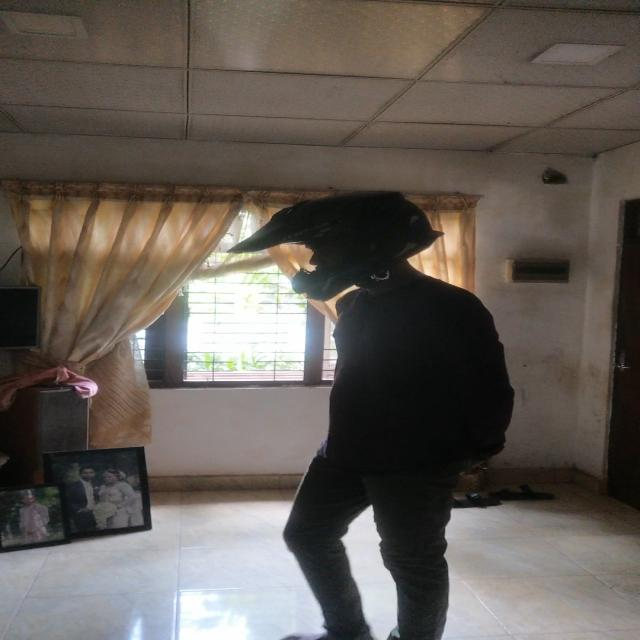Helmet_Wearer: (234, 196, 447, 292)
Person: (253, 188, 526, 640)
